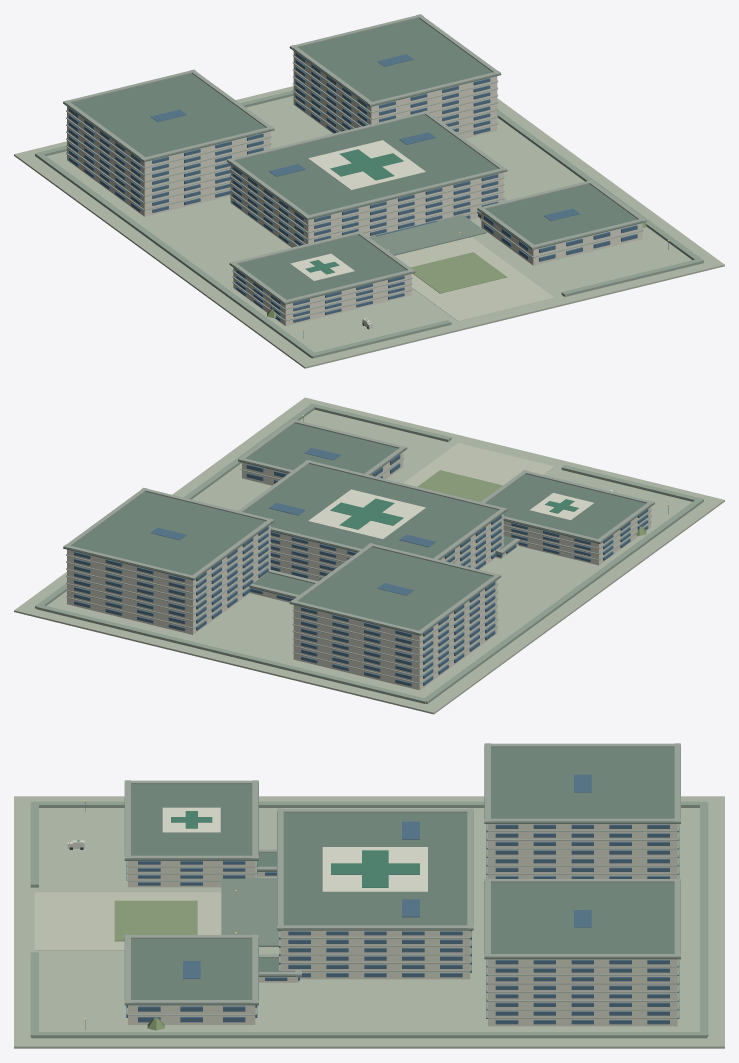
Rendered from hospital.glb.
3 renders of one model, top to bottom at view 1: azimuth 30°, elevation 25°; view 2: azimuth 150°, elevation 25°; view 3: azimuth 270°, elevation 25°, orthographic. The views are drawn at different scales.
Visible parts, largest first — view 1: hospital-campus, hospital-main, hospital-west-ward, hospital-east-ward, hospital-emergency, hospital-services, hospital-west-ward-windows, hospital-main-windows, hospital-main-sign, hospital-east-ward-windows, hospital-entrance, hospital-emergency-windows (+3 smaller); view 2: hospital-campus, hospital-west-ward, hospital-east-ward, hospital-main, hospital-emergency, hospital-services, hospital-west-ward-windows, hospital-east-ward-windows, hospital-main-sign, hospital-main-windows, hospital-rear-link, hospital-roof-glass (+2 smaller); view 3: hospital-campus, hospital-main, hospital-east-ward, hospital-west-ward, hospital-emergency, hospital-services, hospital-main-sign, hospital-east-ward-windows, hospital-west-ward-windows, hospital-main-windows, hospital-entrance, hospital-roof-glass (+5 smaller).
Part boxes in pixels (x1,y1,x2,y2): hospital-campus: (14,86,724,368); hospital-main: (226,110,507,247); hospital-west-ward: (63,69,274,216); hospital-east-ward: (289,14,501,138); hospital-emergency: (229,231,415,325); hospital-services: (477,180,646,265); hospital-west-ward-windows: (69,108,263,212); hospital-main-windows: (232,166,498,246); hospital-main-sign: (308,140,425,189); hospital-east-ward-windows: (295,53,490,134); hospital-entrance: (369,214,486,255); hospital-emergency-windows: (236,270,404,322); hospital-campus: (14,397,724,714); hospital-west-ward: (289,543,501,690); hospital-east-ward: (63,487,274,634); hospital-main: (238,460,507,581); hospital-emergency: (480,470,654,565); hospital-services: (238,419,407,485); hospital-west-ward-windows: (301,582,495,686); hospital-east-ward-windows: (74,526,268,631); hospital-main-sign: (308,489,425,539); hospital-main-windows: (270,515,501,579); hospital-rear-link: (249,569,317,602); hospital-roof-glass: (150,447,435,595); hospital-campus: (14,796,724,1048); hospital-main: (277,808,473,979); hospital-east-ward: (484,878,680,1026); hospital-west-ward: (484,743,680,878); hospital-emergency: (124,780,258,887); hospital-services: (124,934,258,1024); hospital-main-sign: (322,847,427,891); hospital-east-ward-windows: (486,959,679,1024); hospital-west-ward-windows: (486,824,679,878); hospital-main-windows: (279,930,471,977); hospital-entrance: (221,878,278,946); hospital-roof-glass: (183,774,591,978).
Size of the model in its own units: 200 by 27.29 by 240.
